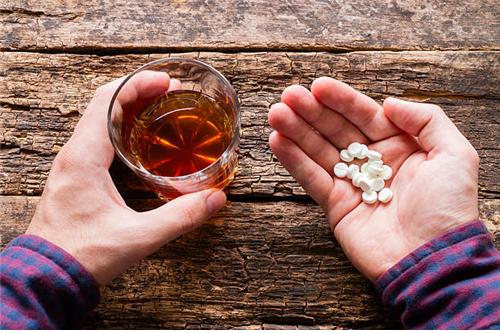alcohol: (106, 55, 241, 205)
